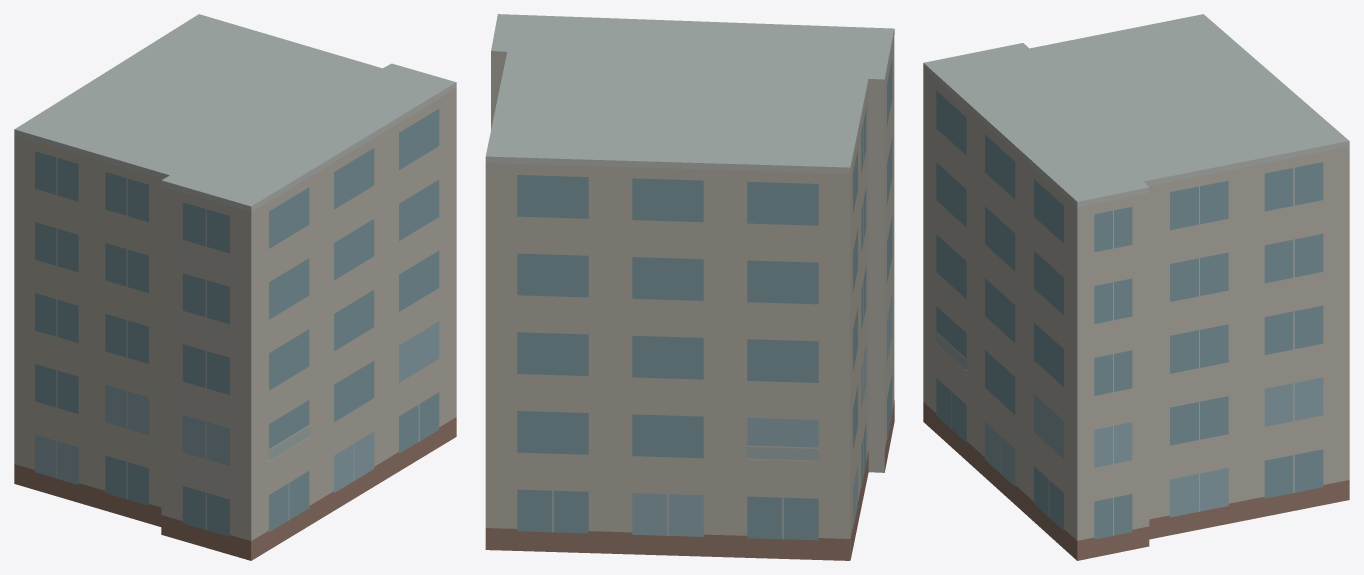
Rendered from survey-upis-32730156.glb.
The picture shows the model from 3 angles, left to right: view 1: azimuth 30°, elevation 25°; view 2: azimuth 150°, elevation 25°; view 3: azimuth 270°, elevation 25°; orthographic projection. The views are drawn at different scales.
Visible parts, largest first — view 1: survey-upis-32730156.tmp; view 2: survey-upis-32730156.tmp; view 3: survey-upis-32730156.tmp.
Boxes of the visible parts, box(x1,y1,x2,y2) form: survey-upis-32730156.tmp: box(14, 14, 456, 560); survey-upis-32730156.tmp: box(485, 14, 894, 560); survey-upis-32730156.tmp: box(923, 14, 1349, 560).
Bounding box in the file's own units: 17.12 × 15.25 × 16.41.
